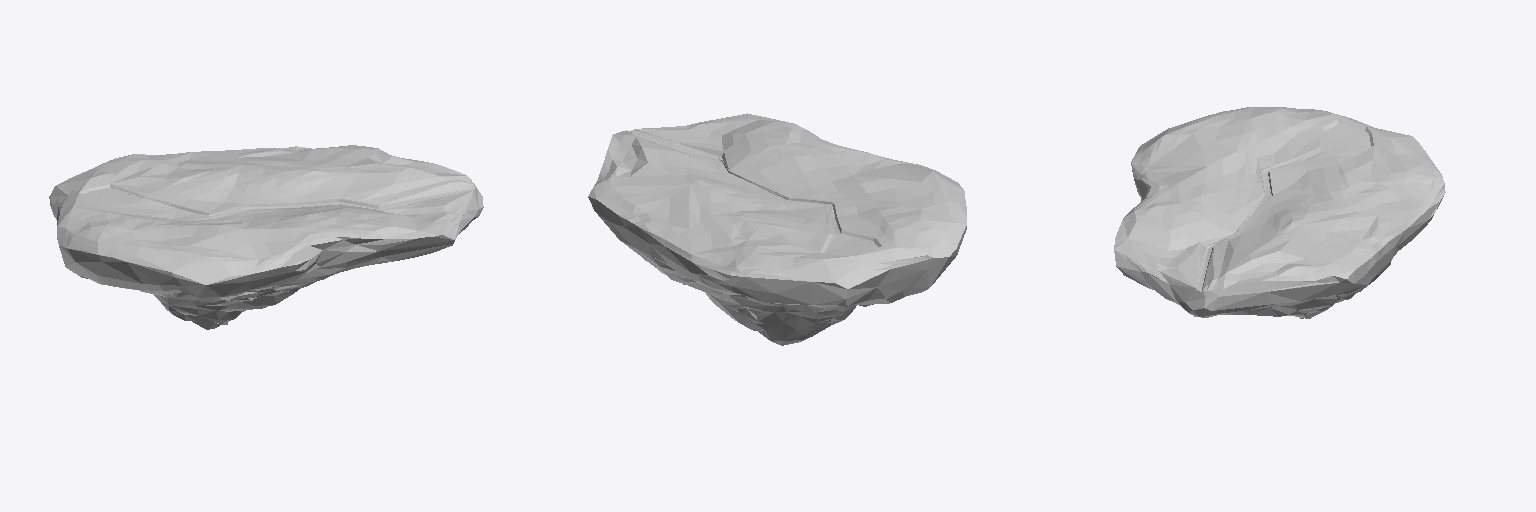
File: IslandHome.obj
3 renders of one model, left to right at view 1: azimuth 30°, elevation 25°; view 2: azimuth 150°, elevation 25°; view 3: azimuth 270°, elevation 25°, orthographic.
Visible parts, largest first — view 1: Medium_Island_1.001_Icosphere.027; view 2: Medium_Island_1.001_Icosphere.027; view 3: Medium_Island_1.001_Icosphere.027.
Boxes of the visible parts, box(x1,y1,x2,y2) form: Medium_Island_1.001_Icosphere.027: box(49, 145, 483, 329); Medium_Island_1.001_Icosphere.027: box(588, 113, 966, 345); Medium_Island_1.001_Icosphere.027: box(1114, 107, 1445, 318).
Bounding box in the file's own units: 293 × 105 × 222.